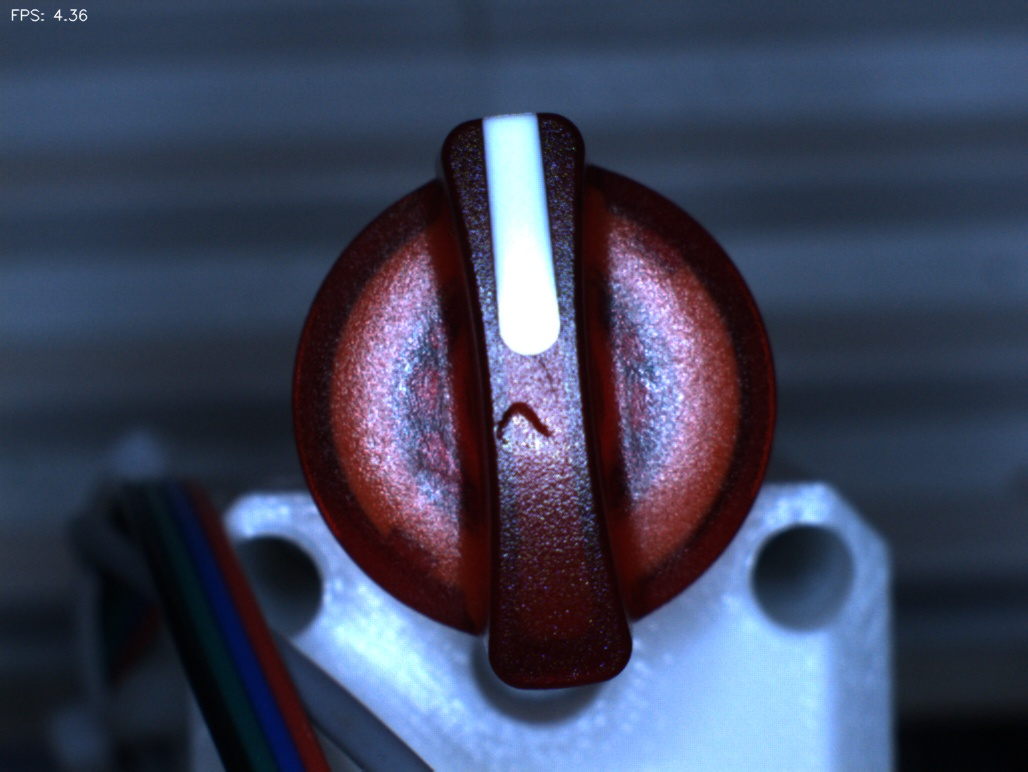Choc: (481, 386, 572, 477)
